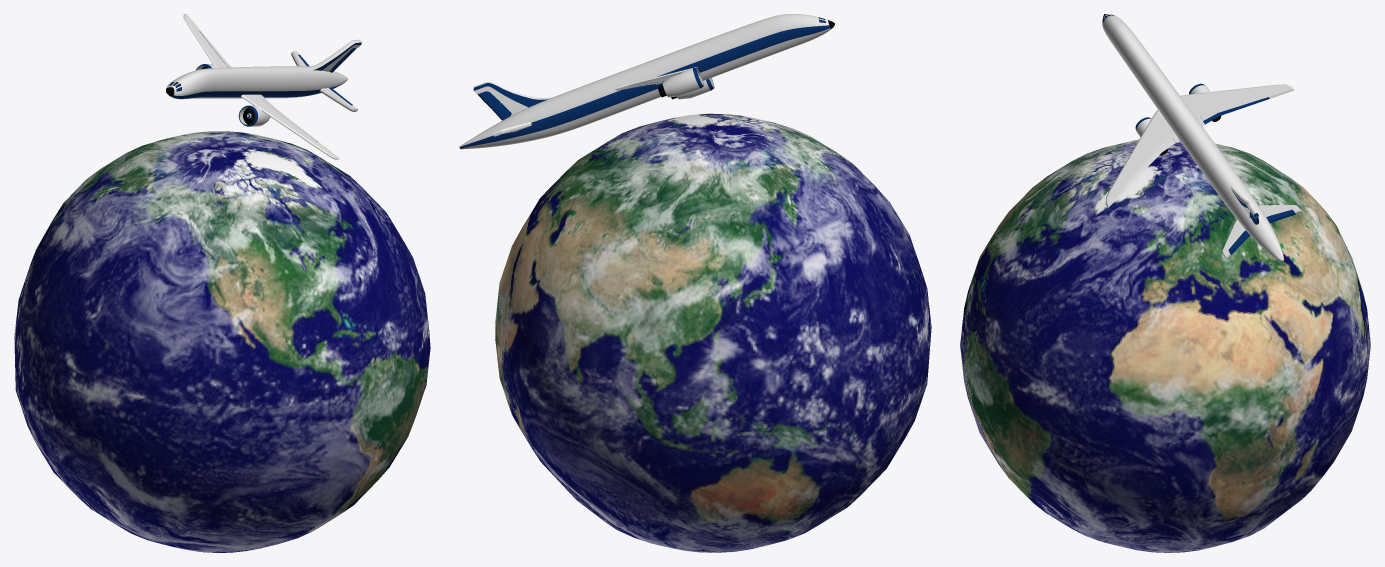
Rendered from Travel-model.glb.
The picture shows the model from 3 angles, left to right: view 1: azimuth 30°, elevation 25°; view 2: azimuth 150°, elevation 25°; view 3: azimuth 270°, elevation 25°; orthographic projection. The views are drawn at different scales.
Parts seen in each view (by area): view 1: Sphere, Cylinder; view 2: Sphere, Cylinder; view 3: Sphere, Cylinder.
Boxes of the visible parts, <box> form: Sphere: <box>14,131,430,552</box>; Cylinder: <box>166,14,361,159</box>; Sphere: <box>495,113,931,552</box>; Cylinder: <box>459,14,834,149</box>; Sphere: <box>960,138,1370,552</box>; Cylinder: <box>1102,14,1301,261</box>.
Size of the model in its own units: 3.79 by 4.88 by 3.75.
Materials: 4 (1 with a texture image).
